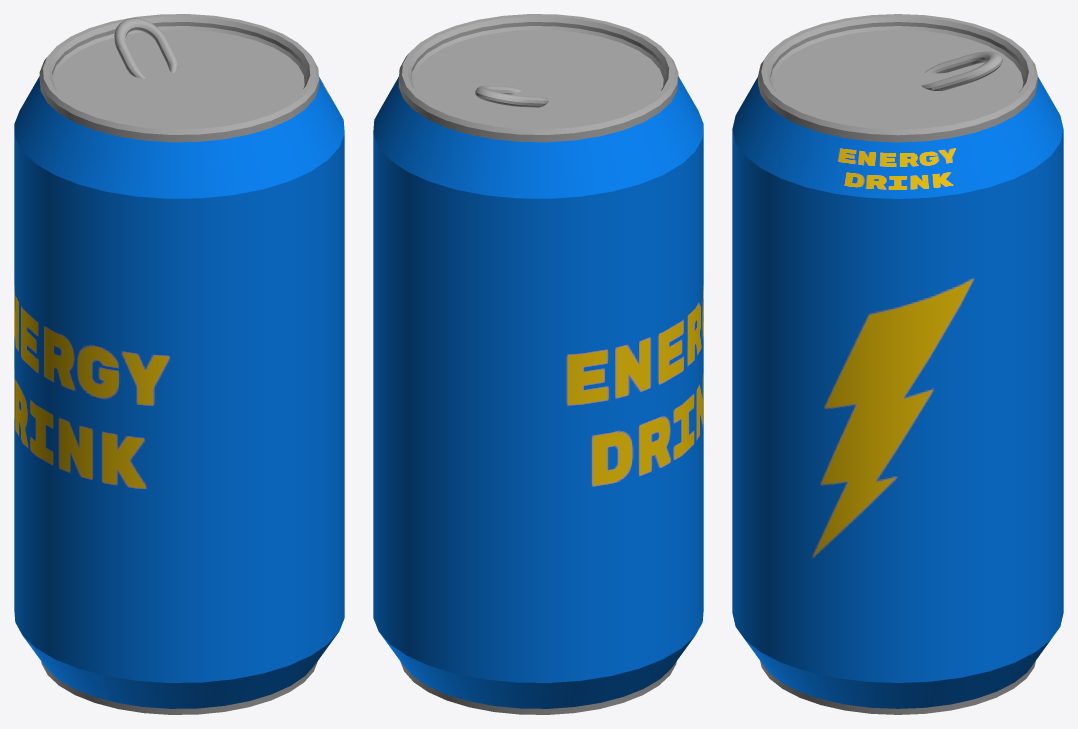
The model's file is EnergyDrinkUpgrated.fbx.
3 views of the same model, side by side, from view 1: azimuth 30°, elevation 25°; view 2: azimuth 150°, elevation 25°; view 3: azimuth 270°, elevation 25° (orthographic).
Parts seen in each view (by area): view 1: EnergyDrink; view 2: EnergyDrink; view 3: EnergyDrink.
Part boxes in pixels (x1=…): EnergyDrink: x1=14, y1=14, x2=344, y2=714; EnergyDrink: x1=373, y1=14, x2=703, y2=714; EnergyDrink: x1=732, y1=14, x2=1063, y2=714.
Bounding box in the file's own units: 113 × 227 × 113.
